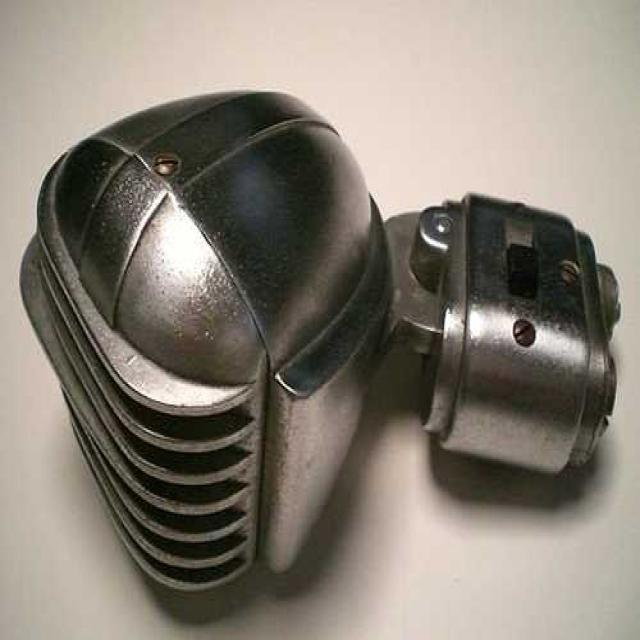microphone: (19, 86, 388, 592)
